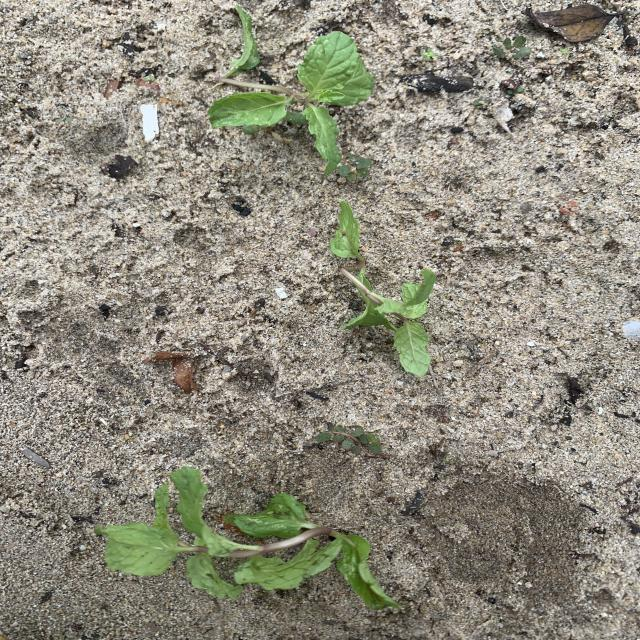crop: (94, 467, 401, 612), (208, 5, 374, 177), (330, 201, 436, 377)
weed: (314, 423, 390, 459), (143, 351, 200, 395), (492, 35, 531, 64)
